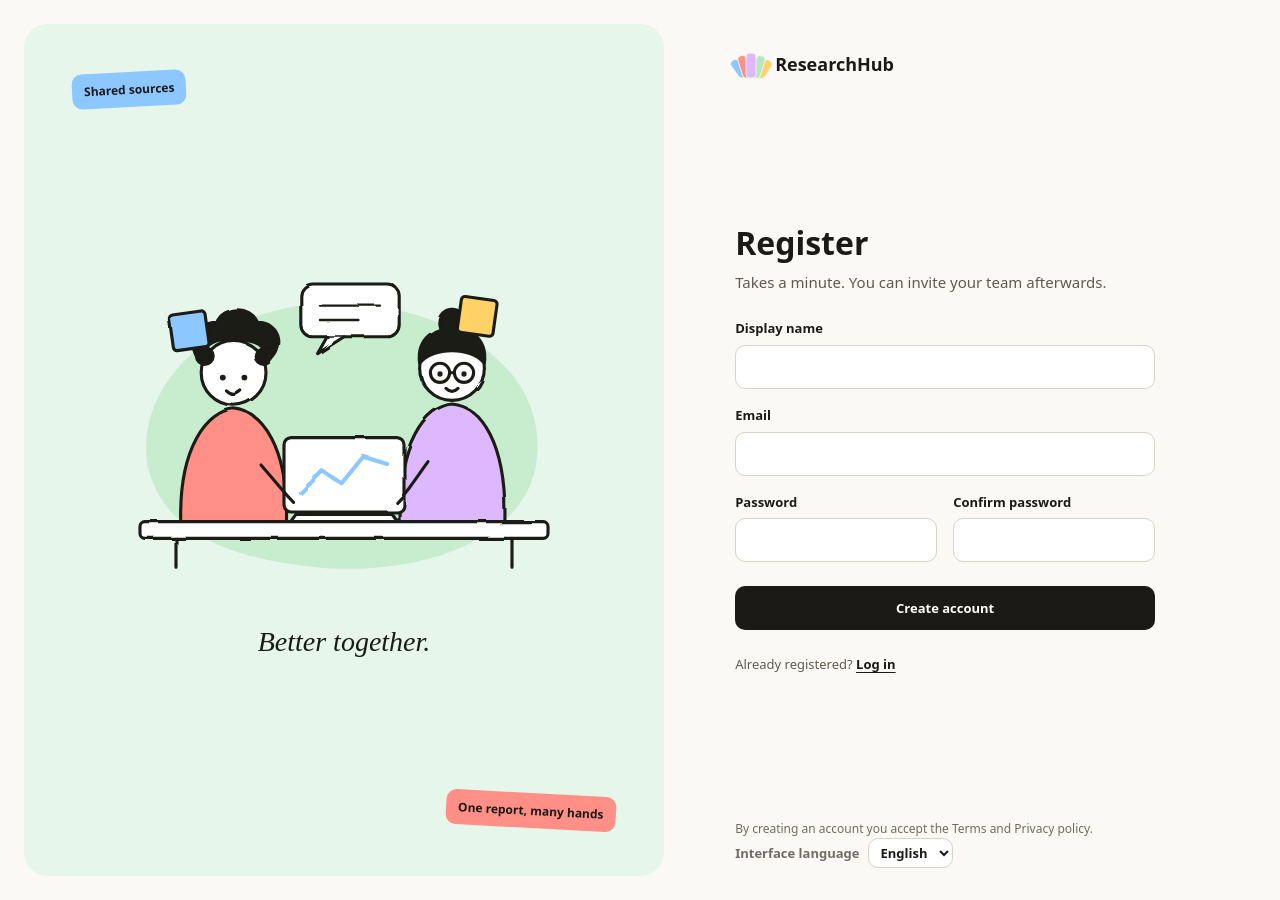
Test: RegisterPage › shows mismatch while typing, before any submit or API request, and clears it on correction
Type "Ada" into the field labelled "Display name" at (945, 367), box top-left (735, 345), bottom-right (1155, 389)
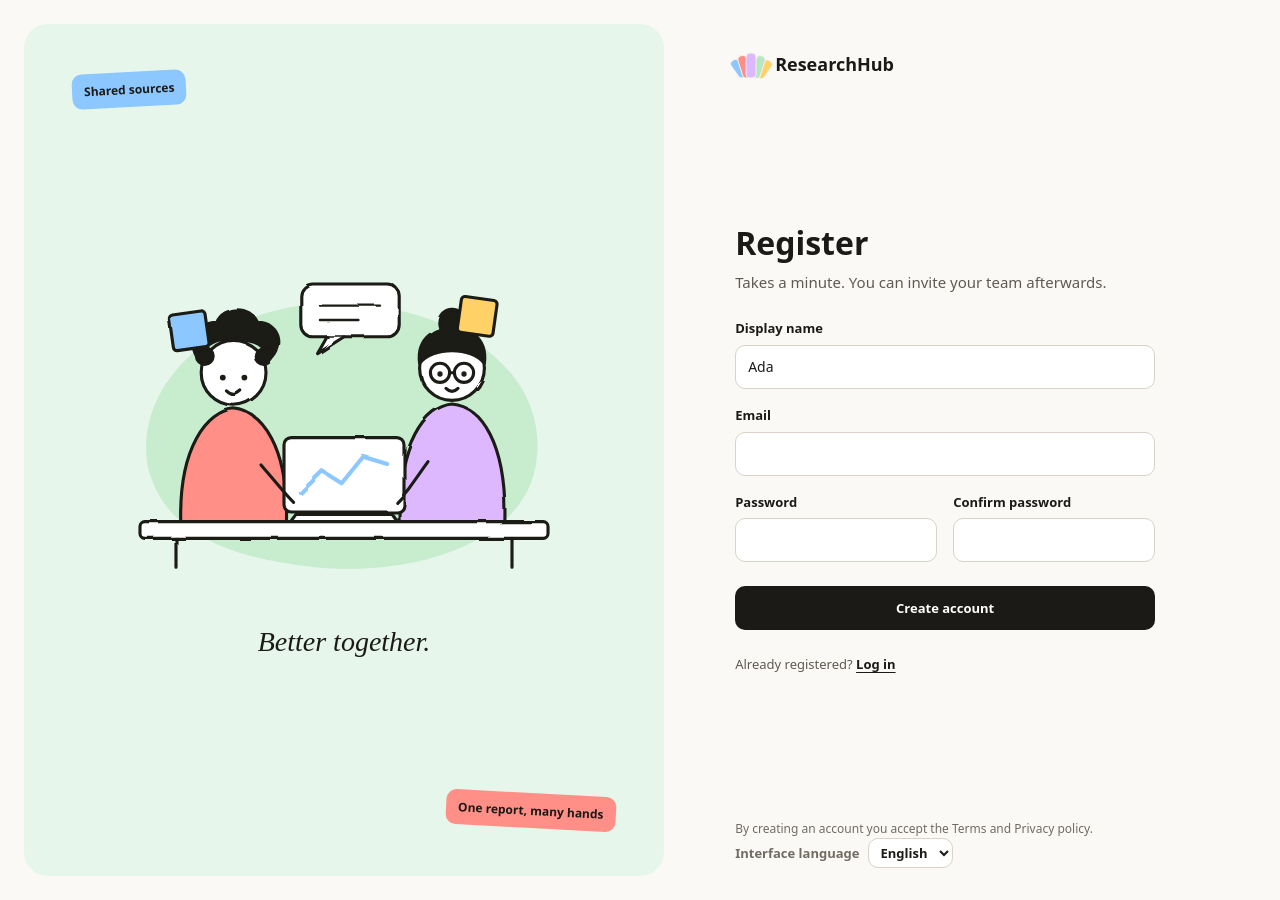
Type "ada@example.com" into the field labelled "Email" at (945, 454), box top-left (735, 432), bottom-right (1155, 476)
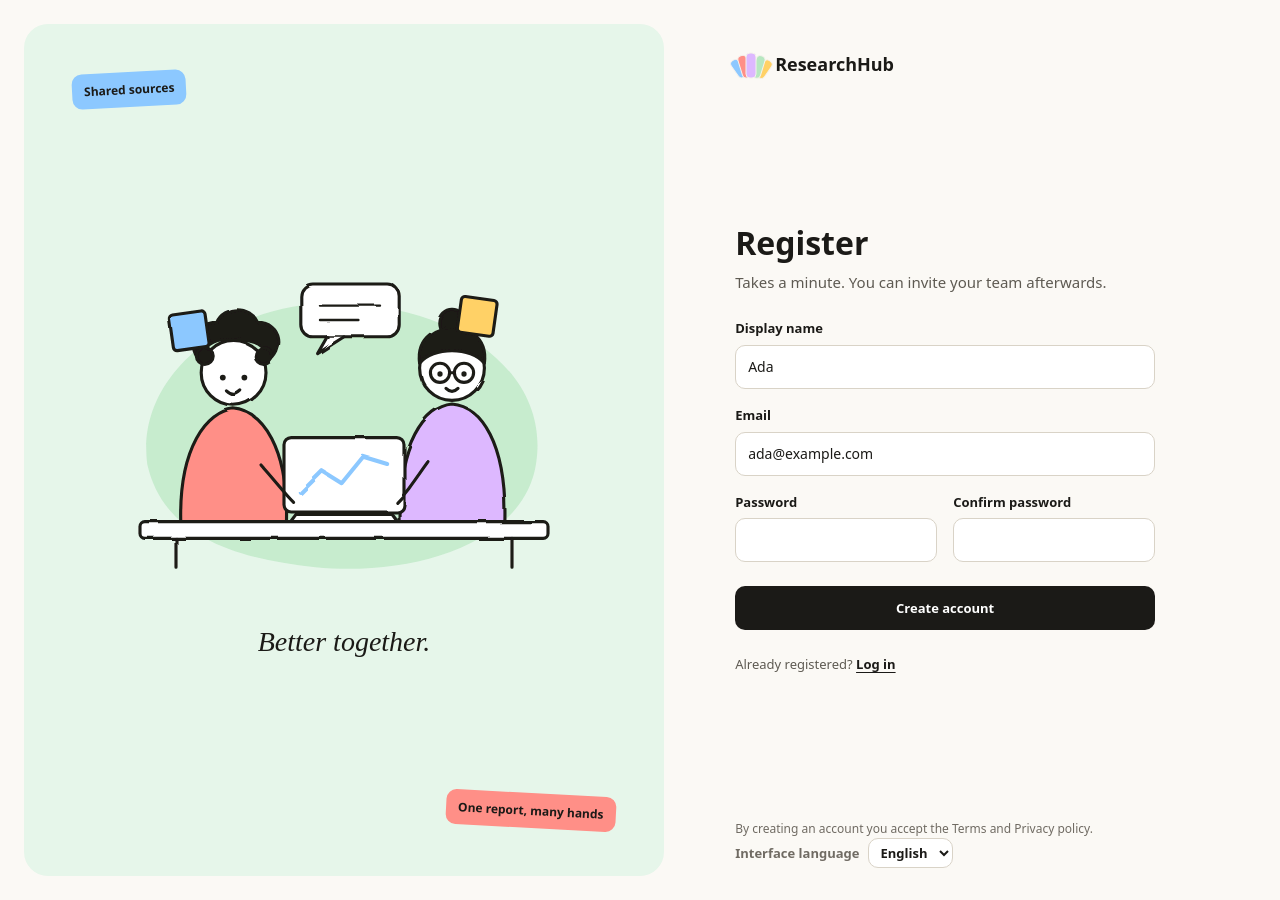
Type " a-long-enough-password " into the password field labelled "Password" at (836, 540), box top-left (735, 518), bottom-right (937, 562)
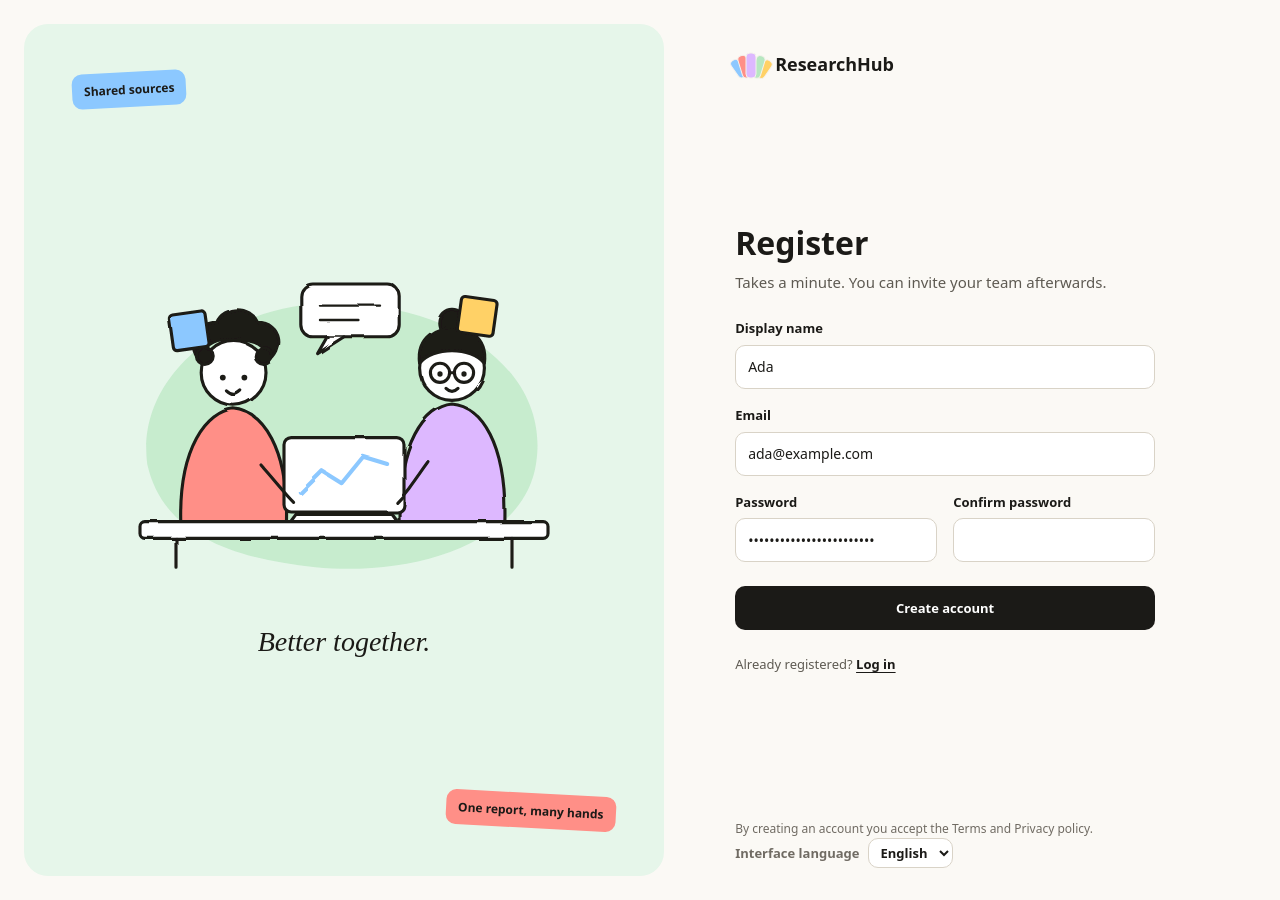
Type "a-long-enough-password" into the password field labelled "Confirm password" at (1054, 540), box top-left (953, 518), bottom-right (1155, 562)
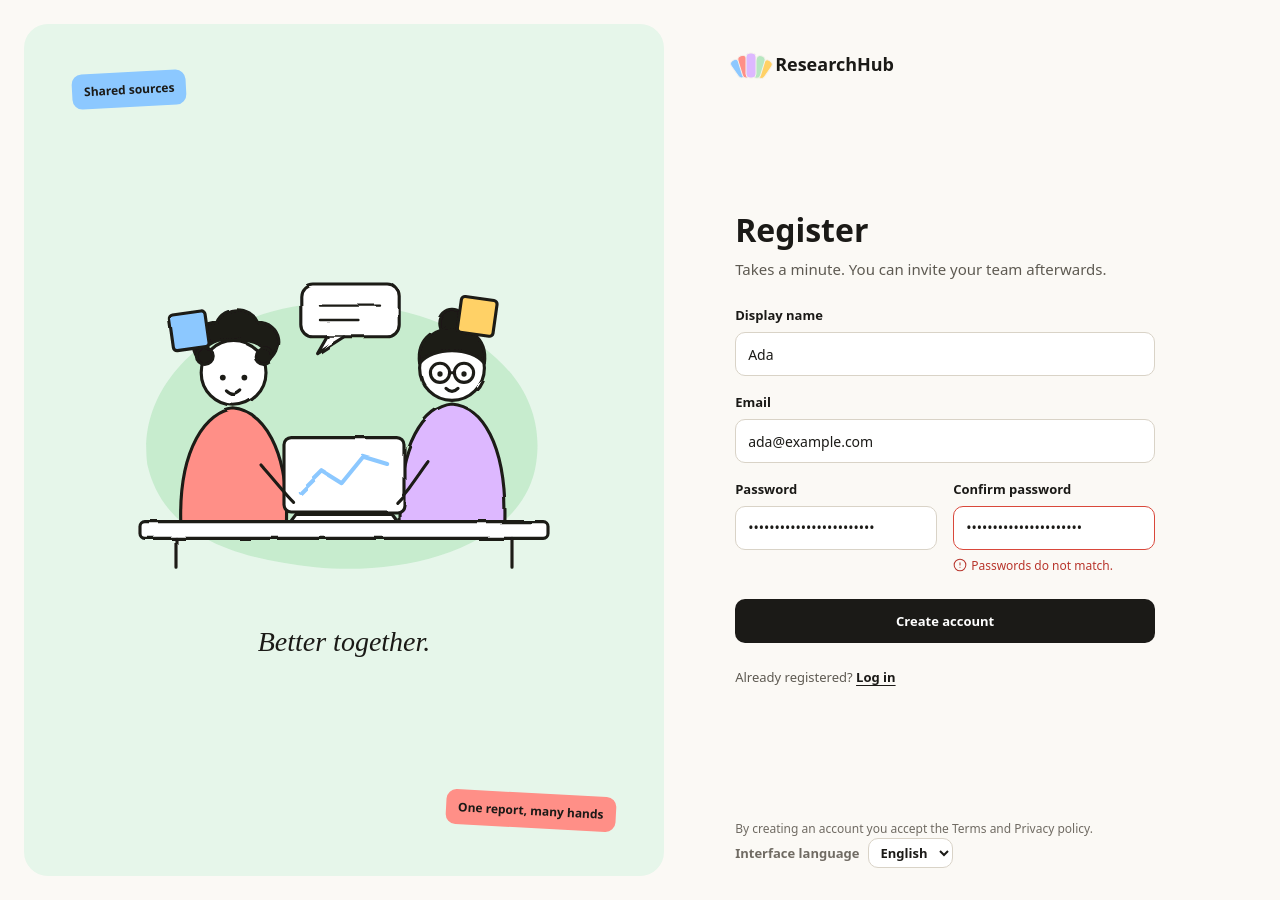
Now the password field labelled "Confirm password" is marked as invalid
Now the password field labelled "Confirm password" has attribute aria-describedby="confirmPassword-error"
Type " a-long-enough-password " into the password field labelled "Confirm password" at (1054, 528), box top-left (953, 506), bottom-right (1155, 550)
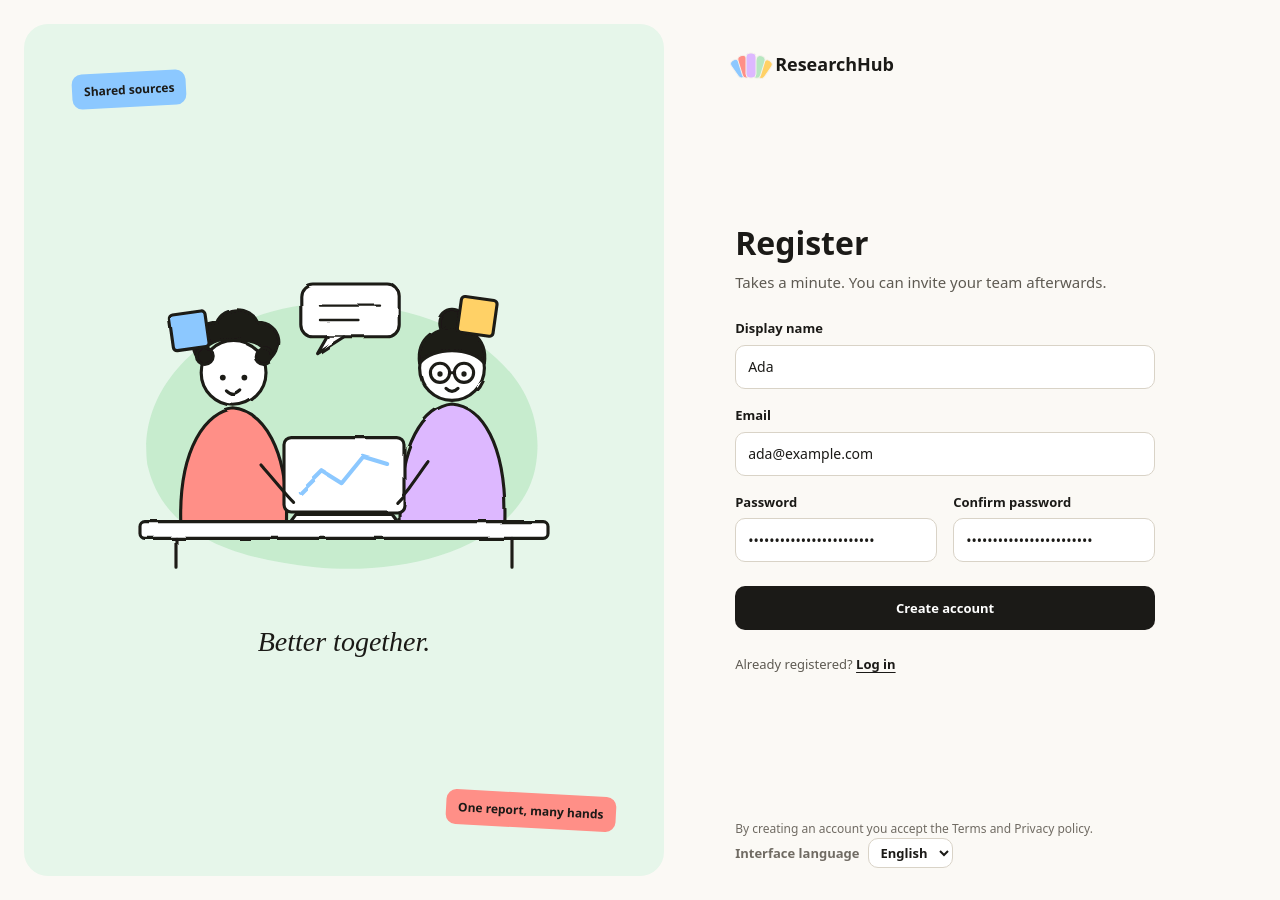
Now the text "Passwords do not match." is gone
